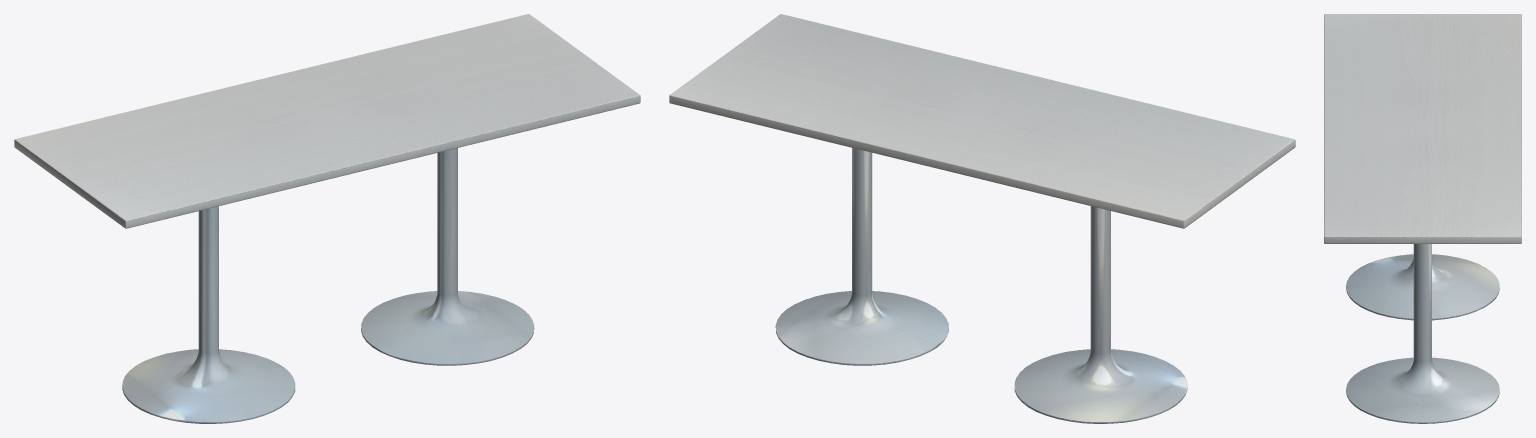
File: amato_70_lang_220x80_white_chrome_plated.glb
The picture shows the model from 3 angles, left to right: view 1: azimuth 30°, elevation 25°; view 2: azimuth 150°, elevation 25°; view 3: azimuth 270°, elevation 25°; orthographic projection. The views are drawn at different scales.
Visible parts, largest first — view 1: amato_70_60x160-white; view 2: amato_70_60x160-white; view 3: amato_70_60x160-white.
Part boxes in pixels (x1=…): amato_70_60x160-white: x1=14, y1=14, x2=640, y2=423; amato_70_60x160-white: x1=669, y1=14, x2=1295, y2=423; amato_70_60x160-white: x1=1324, y1=14, x2=1521, y2=423.
Bounding box in the file's own units: 1.6 × 0.7168 × 0.6003.
Materials: 1 (1 with a texture image).
